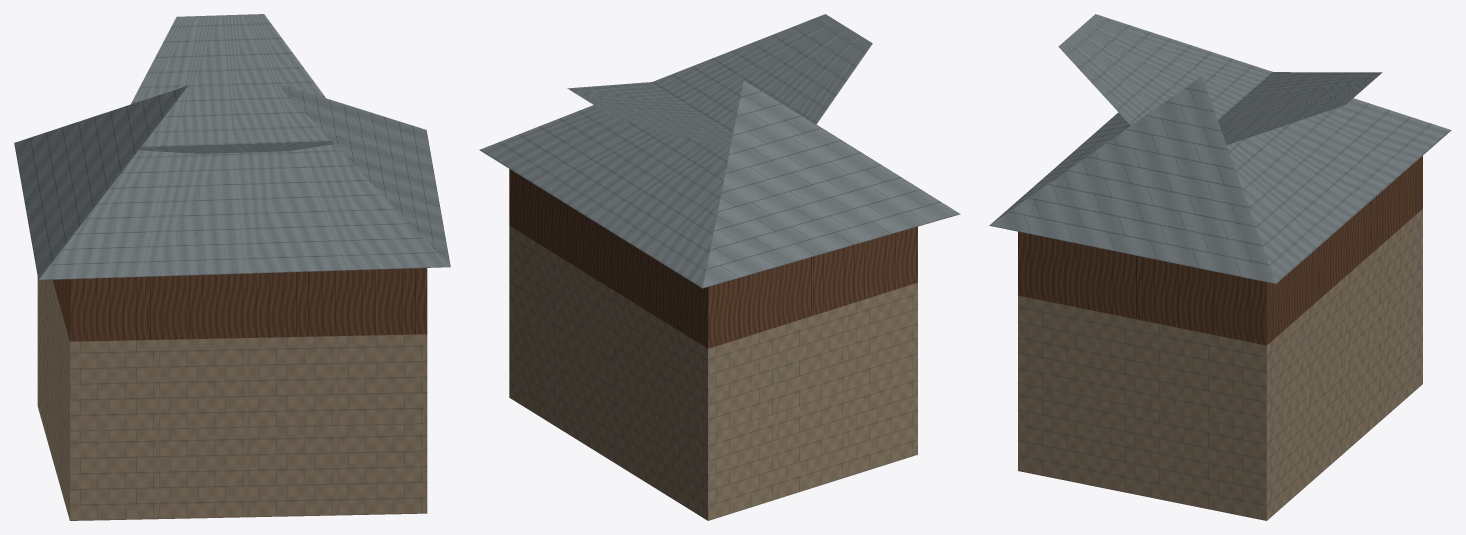
File: bld_c-3_-2_553.gltf
3 renders of one model, left to right at view 1: azimuth 30°, elevation 25°; view 2: azimuth 150°, elevation 25°; view 3: azimuth 270°, elevation 25°, orthographic. The views are drawn at different scales.
Parts seen in each view (by area): view 1: bld_c-3_-2_553; view 2: bld_c-3_-2_553; view 3: bld_c-3_-2_553.
Part boxes in pixels (x1,y1,x2,y2): bld_c-3_-2_553: (14, 14, 450, 520); bld_c-3_-2_553: (479, 14, 960, 520); bld_c-3_-2_553: (989, 14, 1451, 520).
Bounding box in the file's own units: 11.69 × 9.44 × 10.76.
Materials: 3 (3 with a texture image).
